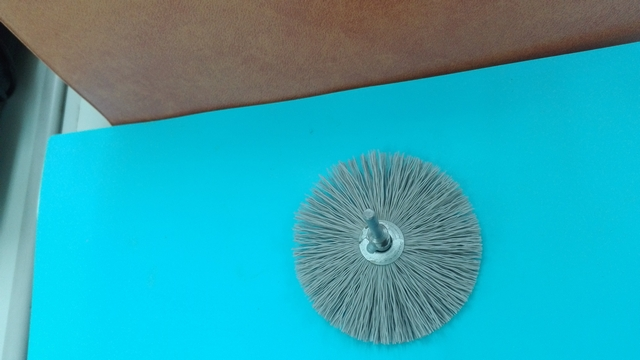TOOL: (196, 138, 531, 345)
